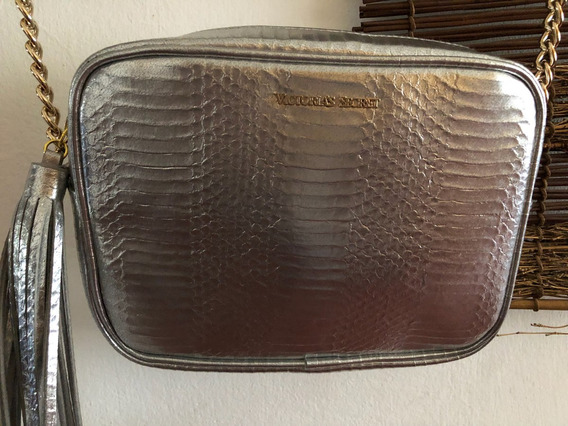cartera: (35, 15, 552, 389)
